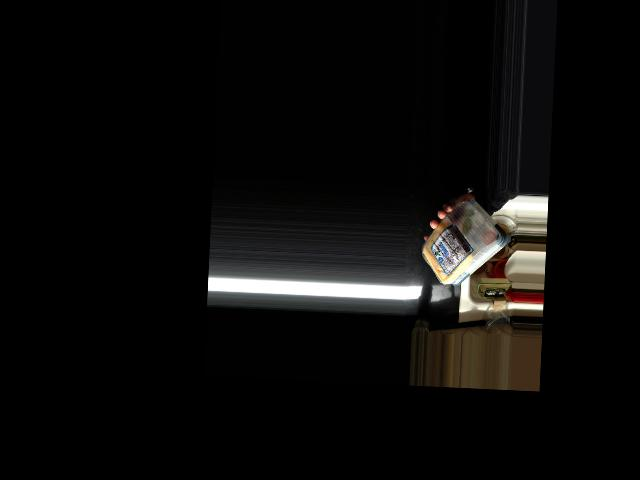cheese: (425, 197, 499, 288)
